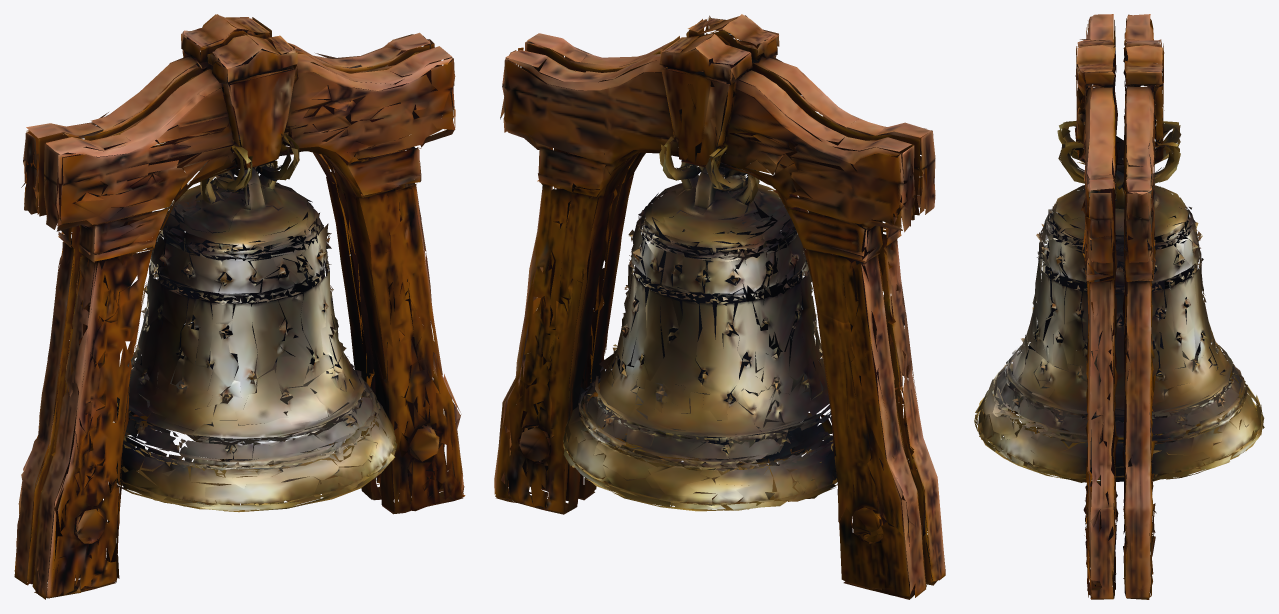
The model's file is bronze_bell.glb.
3 views of the same model, side by side, from view 1: azimuth 30°, elevation 25°; view 2: azimuth 150°, elevation 25°; view 3: azimuth 270°, elevation 25° (orthographic). The views are drawn at different scales.
Parts seen in each view (by area): view 1: bronze_bell_body; view 2: bronze_bell_body; view 3: bronze_bell_body.
Boxes of the visible parts, x1,y1,x2,y2 form: bronze_bell_body: (14, 14, 465, 599); bronze_bell_body: (494, 14, 945, 599); bronze_bell_body: (974, 14, 1264, 599).
Bounding box in the file's own units: 2.95 × 3.42 × 1.94.
1 material, 1 textured.
